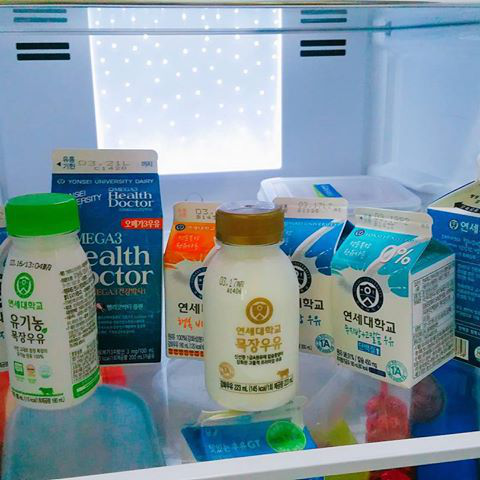milk: (49, 145, 163, 364), (331, 207, 456, 388), (1, 192, 100, 408), (202, 203, 300, 408), (163, 198, 246, 359), (273, 196, 355, 356), (427, 180, 480, 365)
